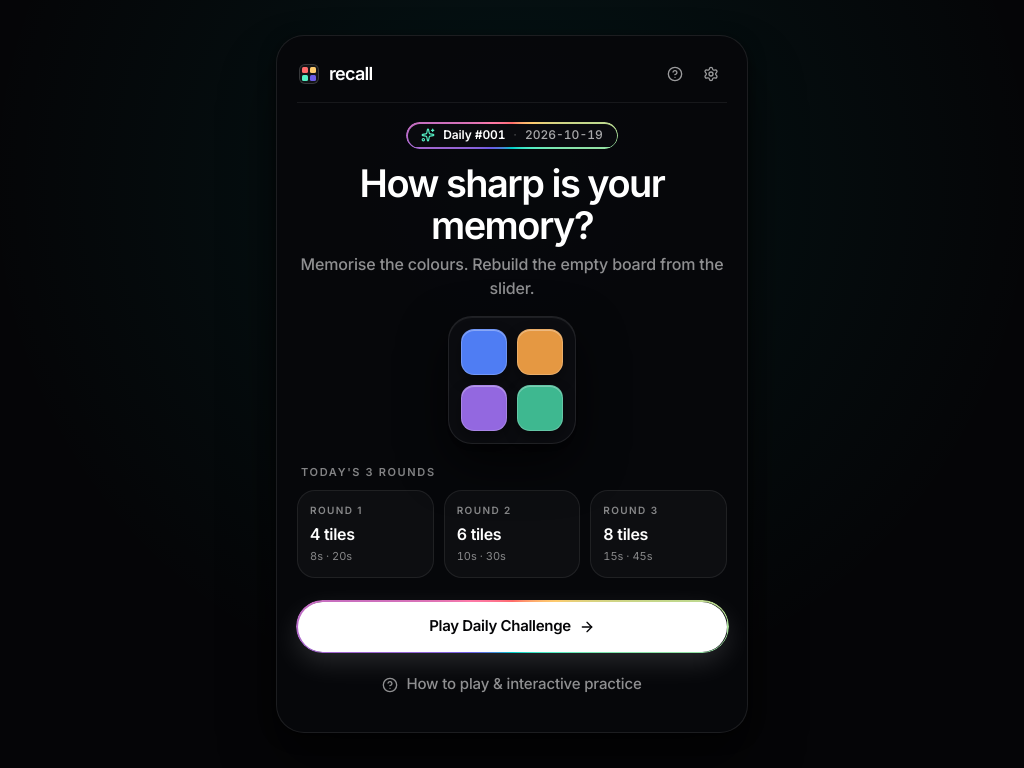
Test case: Recall Integration Game Flows › keeps the Owner Dev Console completely hidden from the public and unlocks via #admin or Ctrl+Shift+D with passcode login
Trigger via secret keyboard shortcut Ctrl+Shift+D
Press D
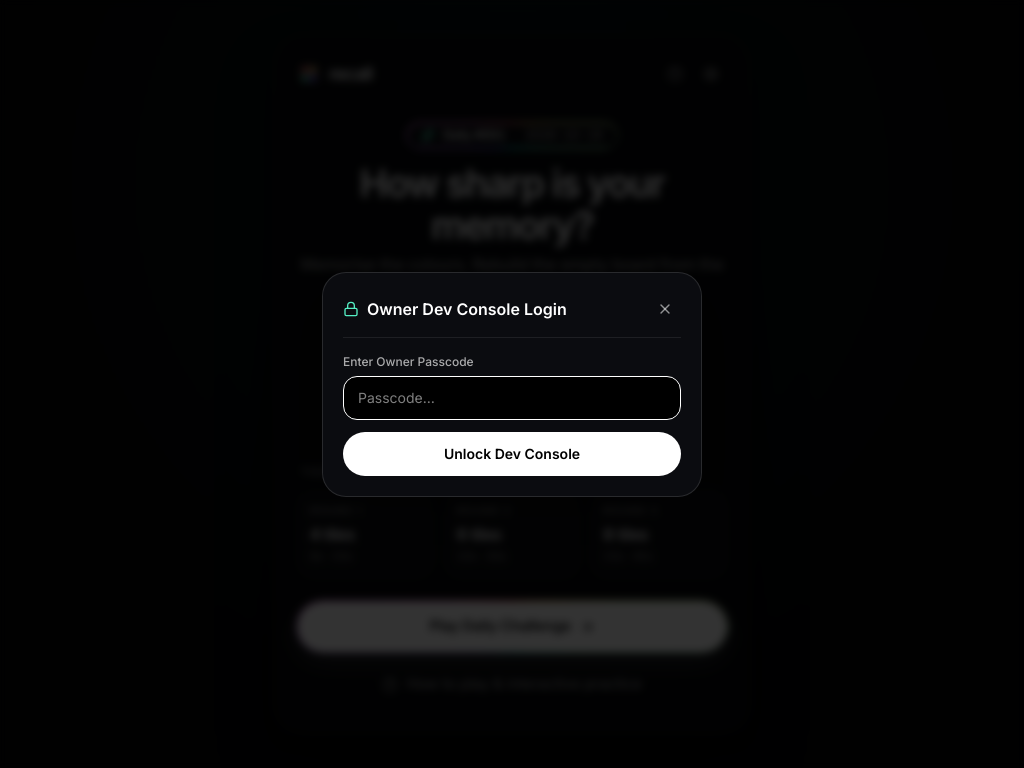
Now the dialog with test id "admin-portal-modal" is shown
Now the password field with test id "admin-passcode-input" is shown
Wrong passcode is rejected
Type "wrong-pass" into the password field with test id "admin-passcode-input". click: (512, 398)
box: [343, 376, 681, 420]
Click the button with test id "admin-login-submit". click: (512, 454)
box: [343, 432, 681, 476]
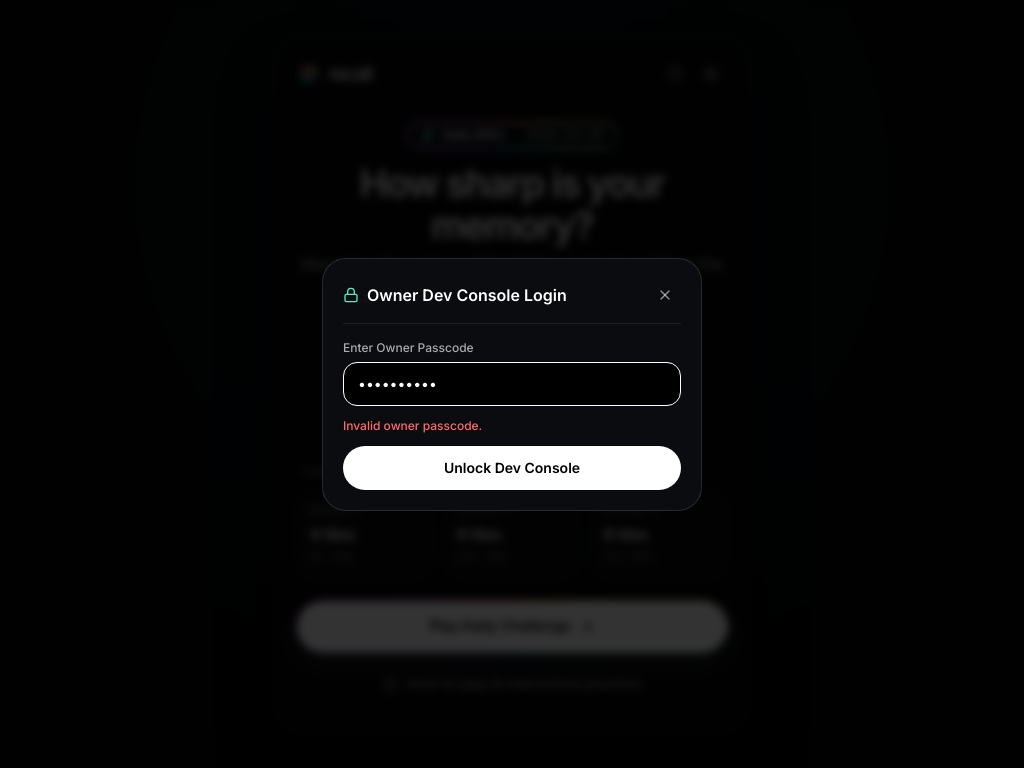
Now the text "Invalid owner passcode." is shown, box [343, 418, 482, 432]
Correct owner passcode unlocks the console and floating bar
Type "recall-admin" into the password field with test id "admin-passcode-input". click: (512, 384)
box: [343, 362, 681, 406]
Click the button with test id "admin-login-submit". click: (512, 468)
box: [343, 446, 681, 490]
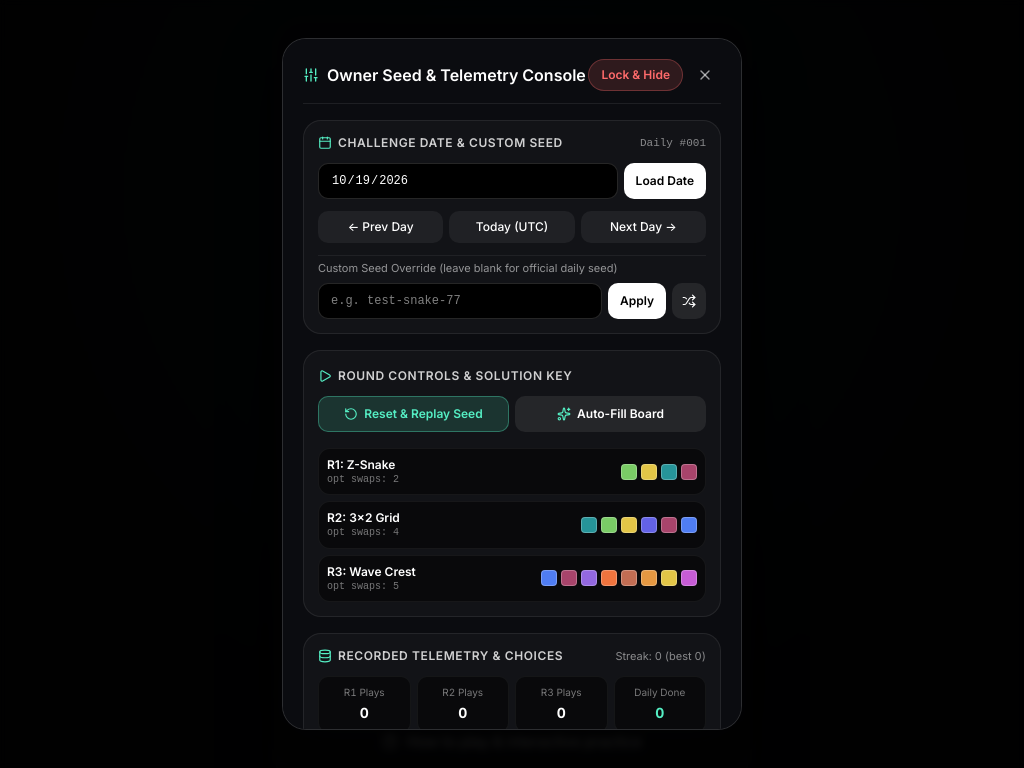
Now the element with test id "admin-floating-bar" is shown, box [297, 92, 727, 157]
Now the element with test id "admin-telemetry-section" is shown, box [303, 633, 721, 730]
Test applying a custom seed from the console
Type "custom-test-seed" into the field with test id "admin-seed-input". click: (460, 301)
box: [318, 283, 602, 319]
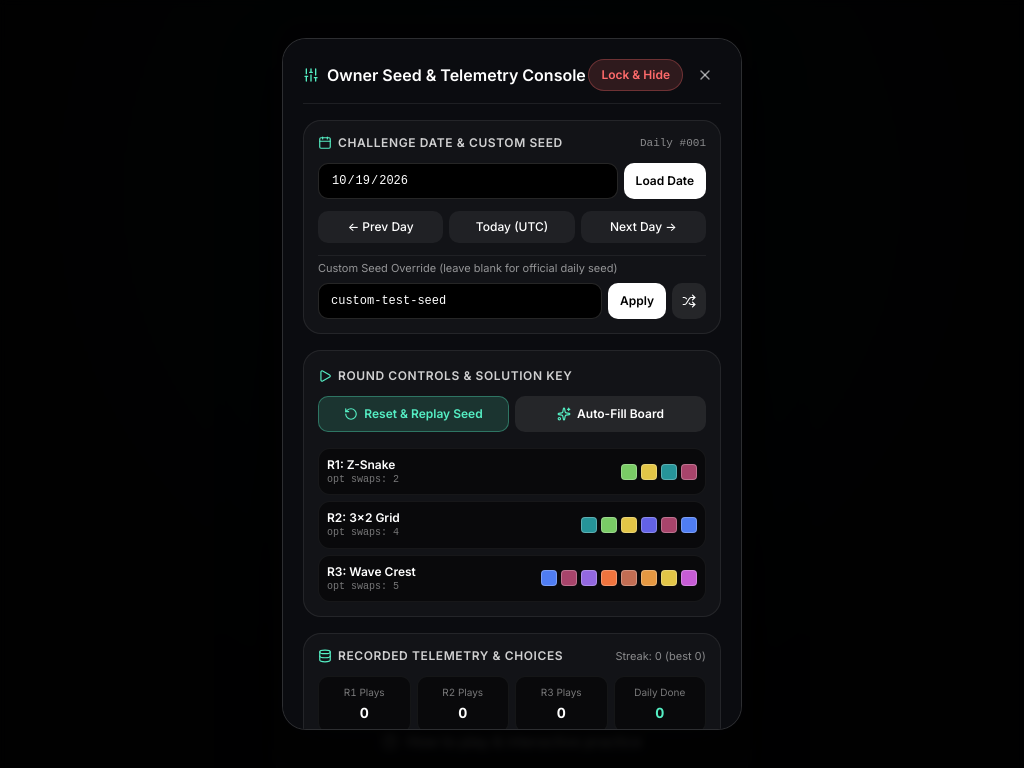
Click the button with test id "admin-apply-seed". click: (637, 301)
box: [608, 283, 666, 319]
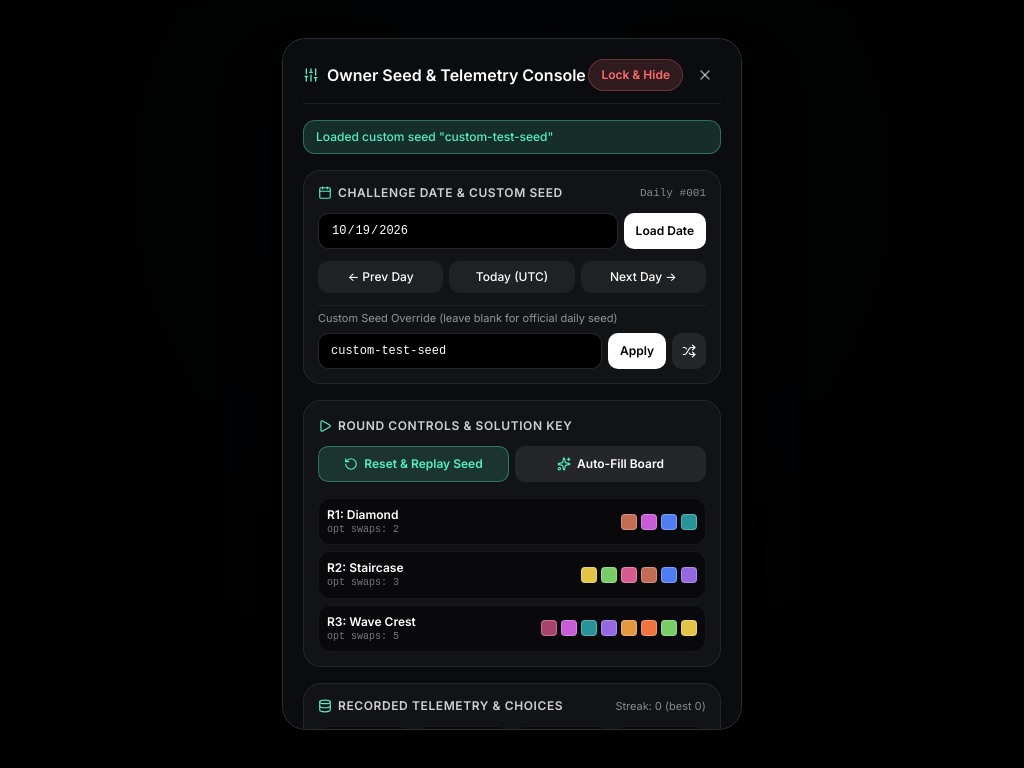
Now the element with test id "admin-floating-bar" shows "custom-test-seed", box [453, 122, 578, 134]
Lock & Hide removes all admin UI from the page again
Click the button with test id "admin-logout-button". click: (636, 75)
box: [588, 59, 683, 91]
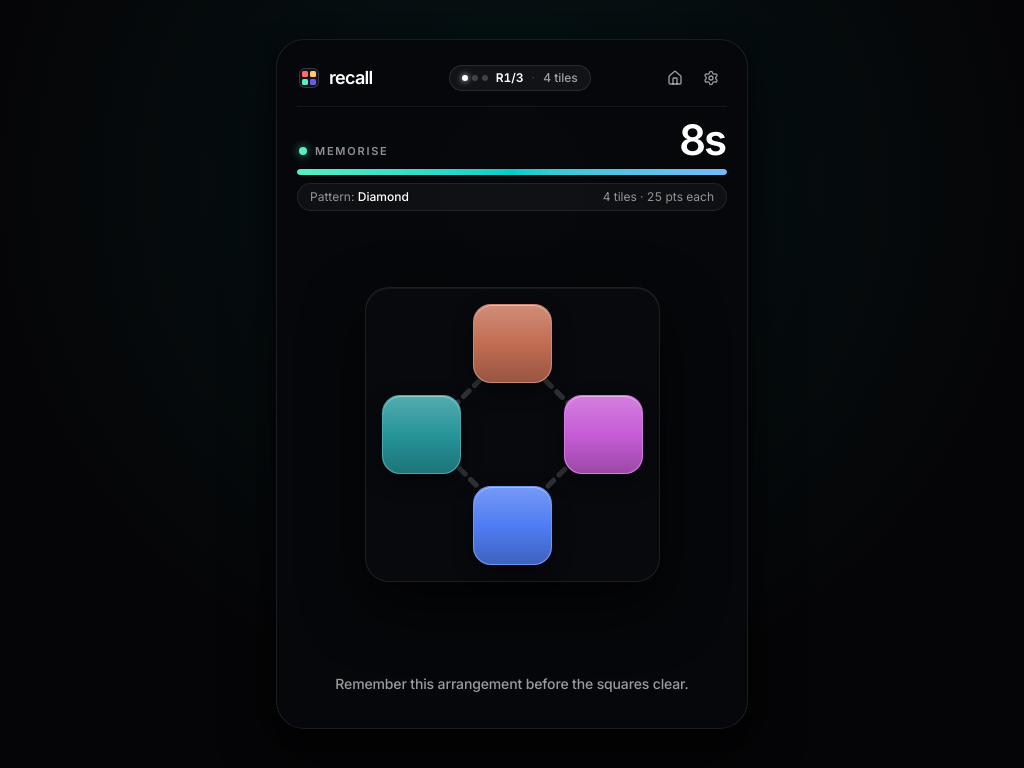
Now the dialog with test id "admin-portal-modal" is gone
Now the element with test id "admin-floating-bar" is gone
